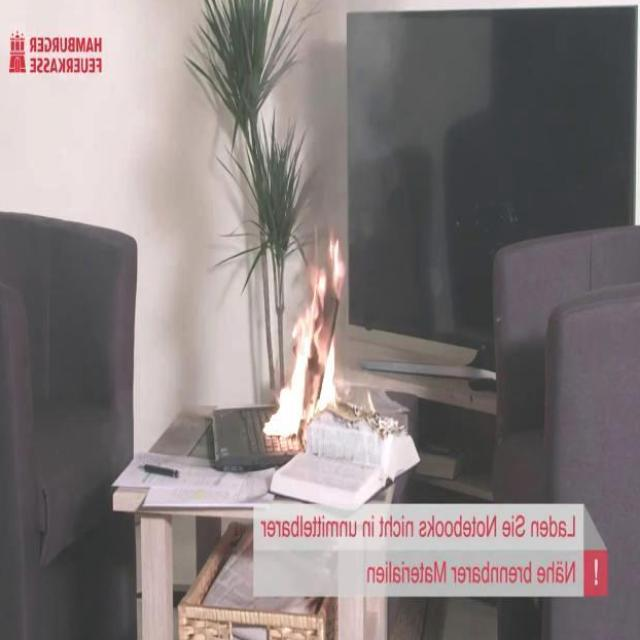fire: (300, 0, 402, 251)
smoke: (258, 227, 353, 450)
